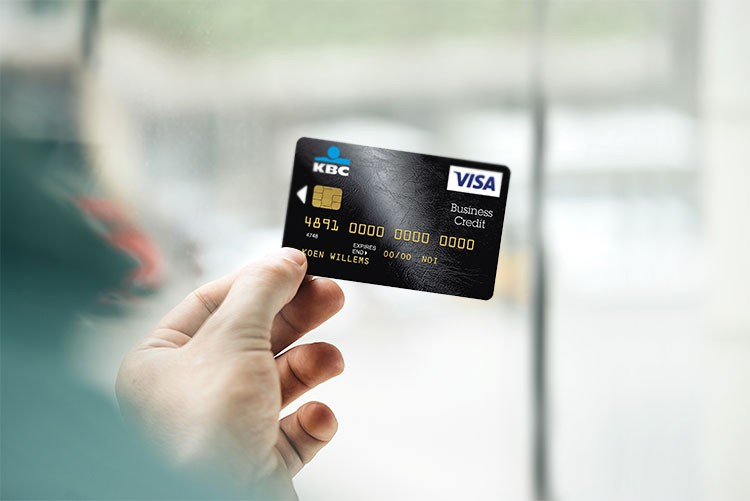tarjeta: (280, 136, 513, 301)
